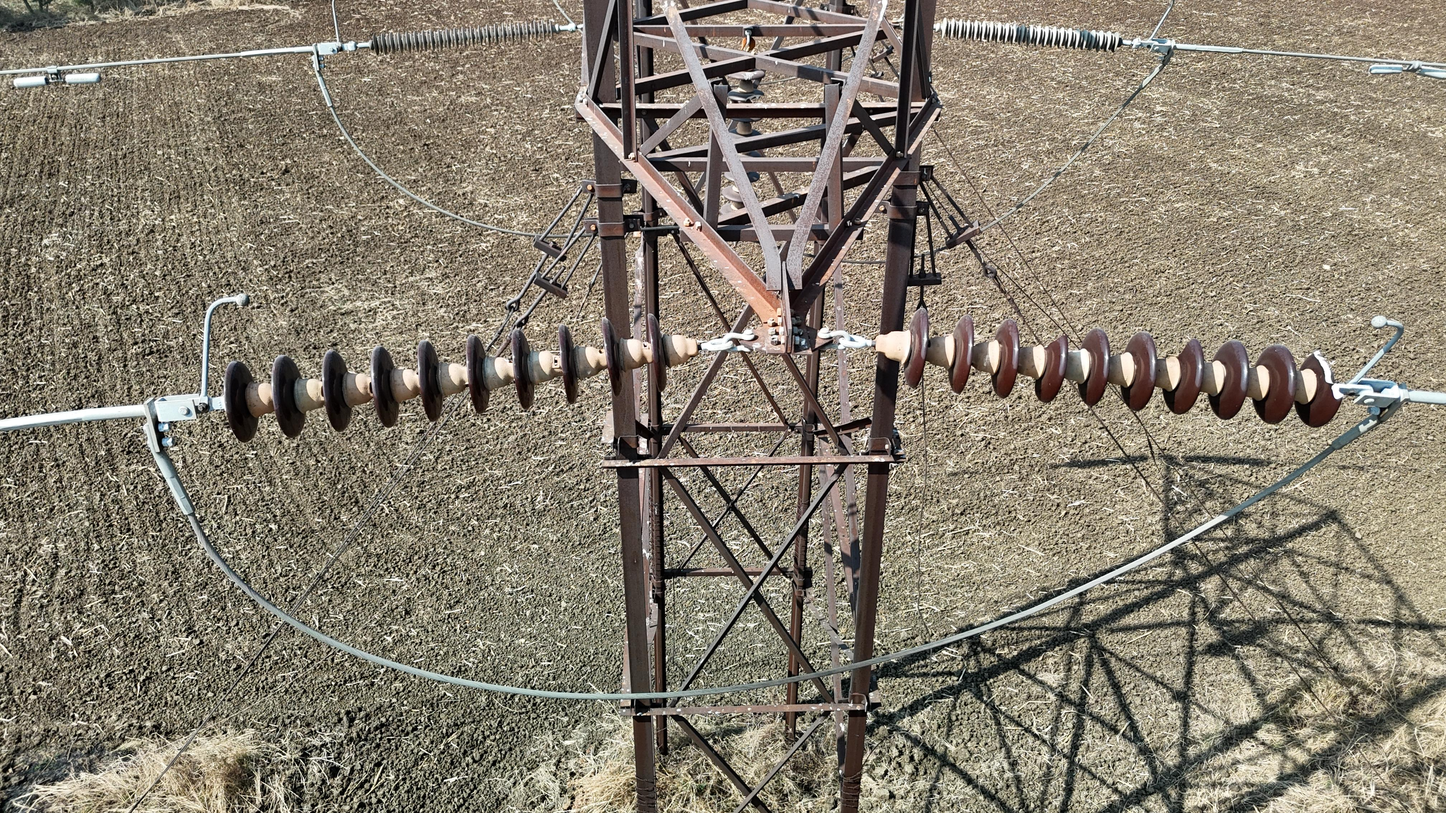broken_insulator: (1296, 346, 1346, 427), (1033, 327, 1074, 407), (1168, 338, 1206, 415), (725, 89, 767, 102)
